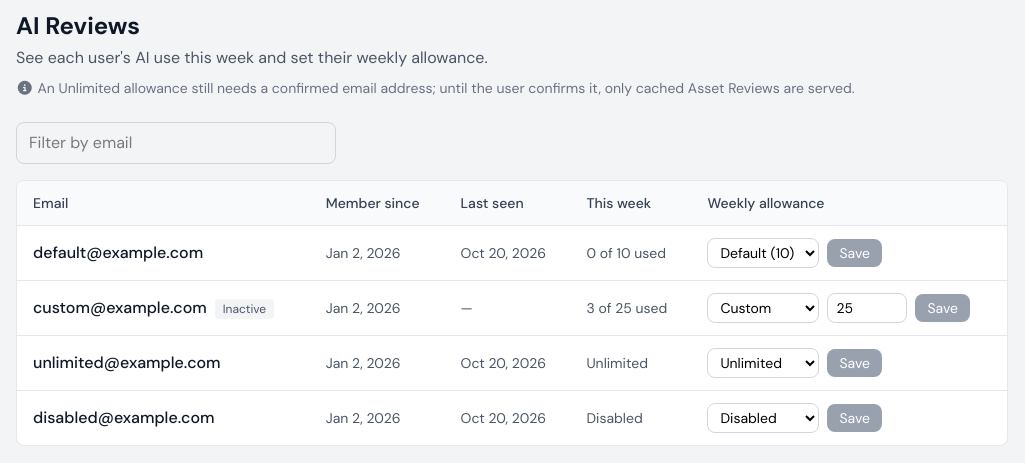
Test case: admin AI Reviews page › filters rows by email
Type "CUSTOM" into the search field labelled "Filter by email" at [176, 143], box x1=16 y1=122 x2=336 y2=164
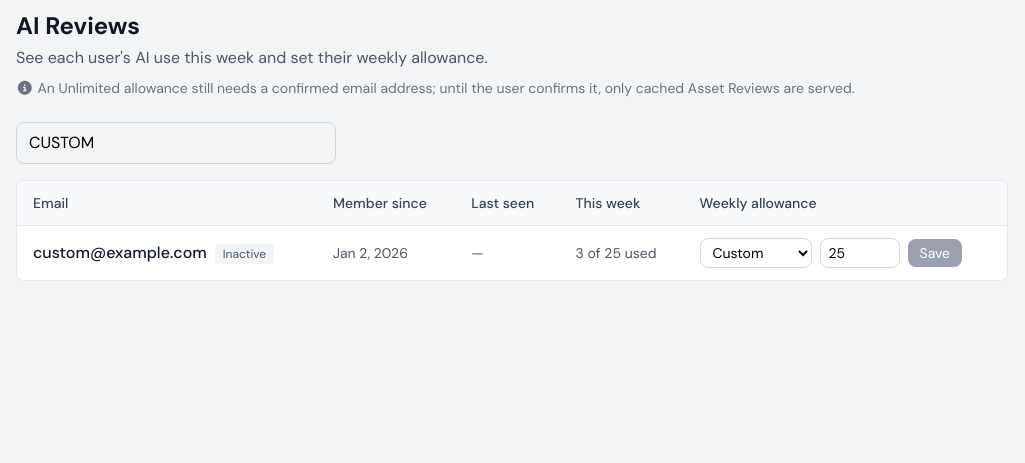
Check: the row with test id "quota-row-u-custom" is shown, box x1=17 y1=226 x2=1007 y2=280
Check: the row with test id "quota-row-u-default" is gone
